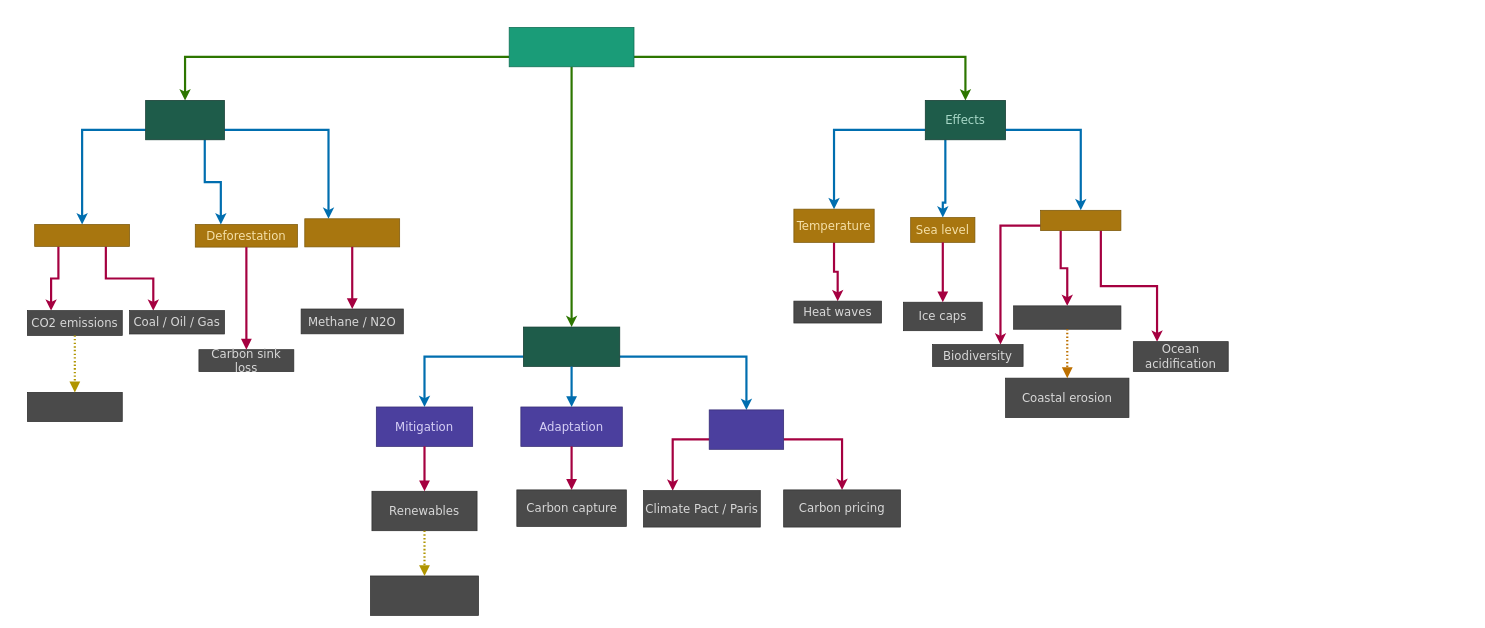
The diagram is 1485 pixels wide and 628 high, and some of its shapes have lost their labels. Here are the shapes that lost their labels. From the top down, the centre of each, then its label:
point (571, 47): Climate change
point (184, 120): Causes
point (82, 235): Fossil fuels
point (352, 232): Agriculture
point (1080, 220): Ecosystems
point (1067, 317): Displacement
point (571, 346): Responses
point (74, 407): Greenhouse effect
point (746, 429): Policy
point (424, 595): Solar / wind
